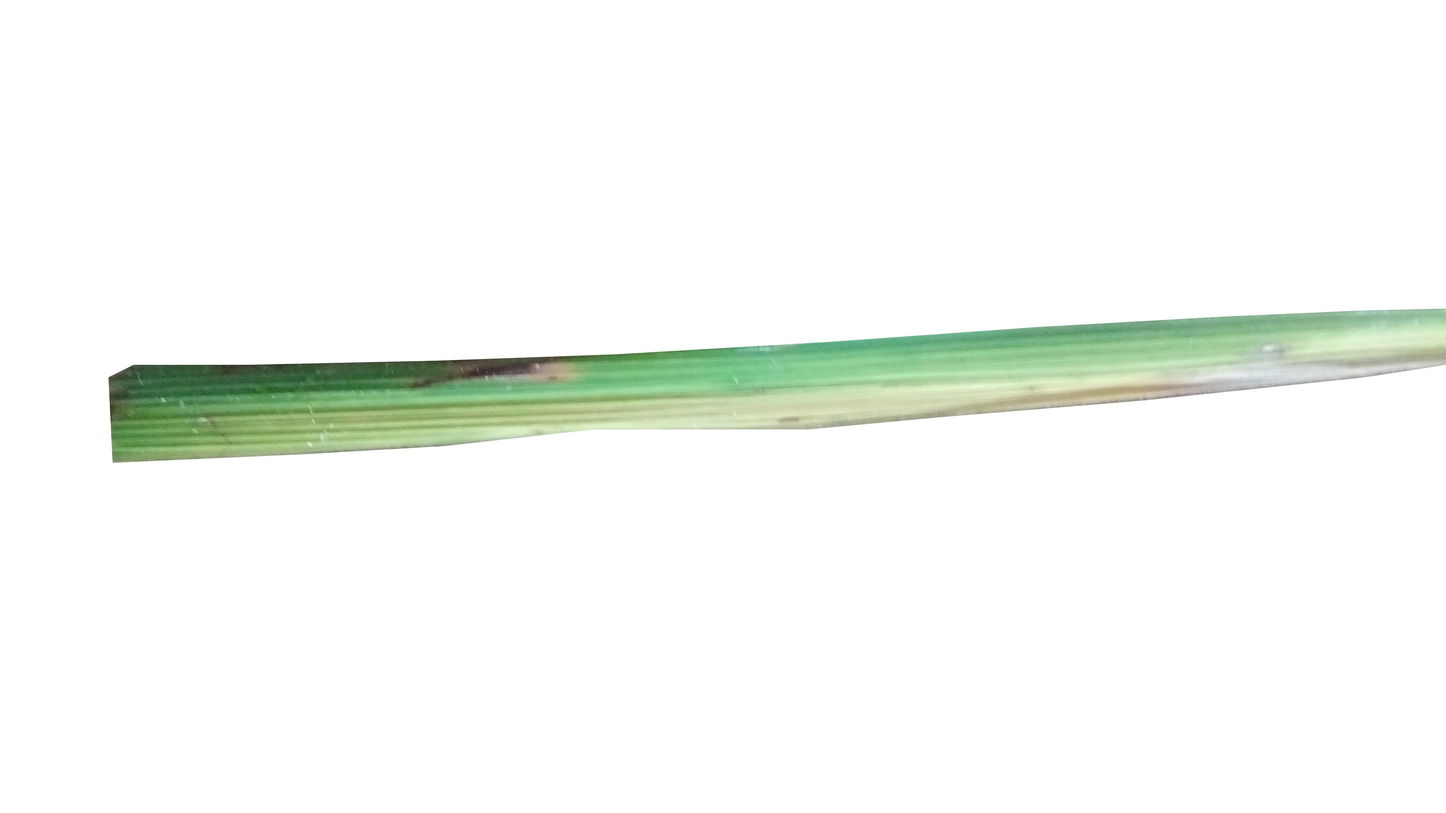Rice blast: (421, 354, 598, 393)
